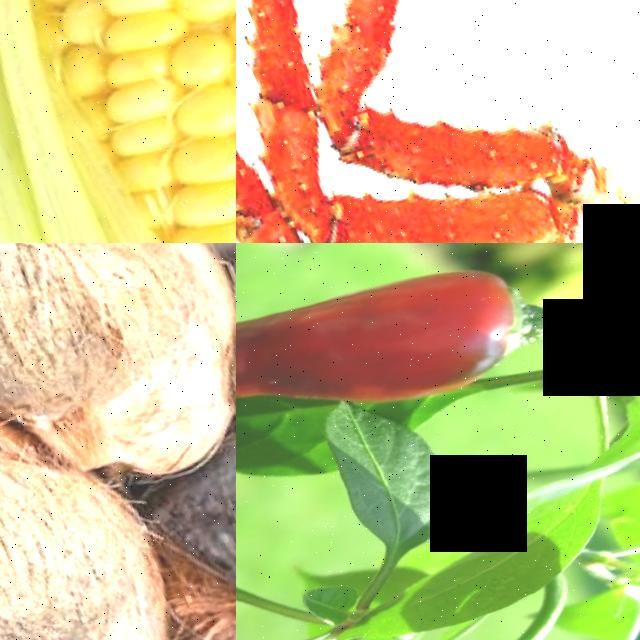chilli: (236, 243, 584, 478)
coconut: (0, 429, 211, 640), (0, 243, 210, 443)
corn: (0, 0, 236, 243)
crab: (236, 74, 640, 243), (236, 0, 402, 187), (261, 0, 509, 107)
